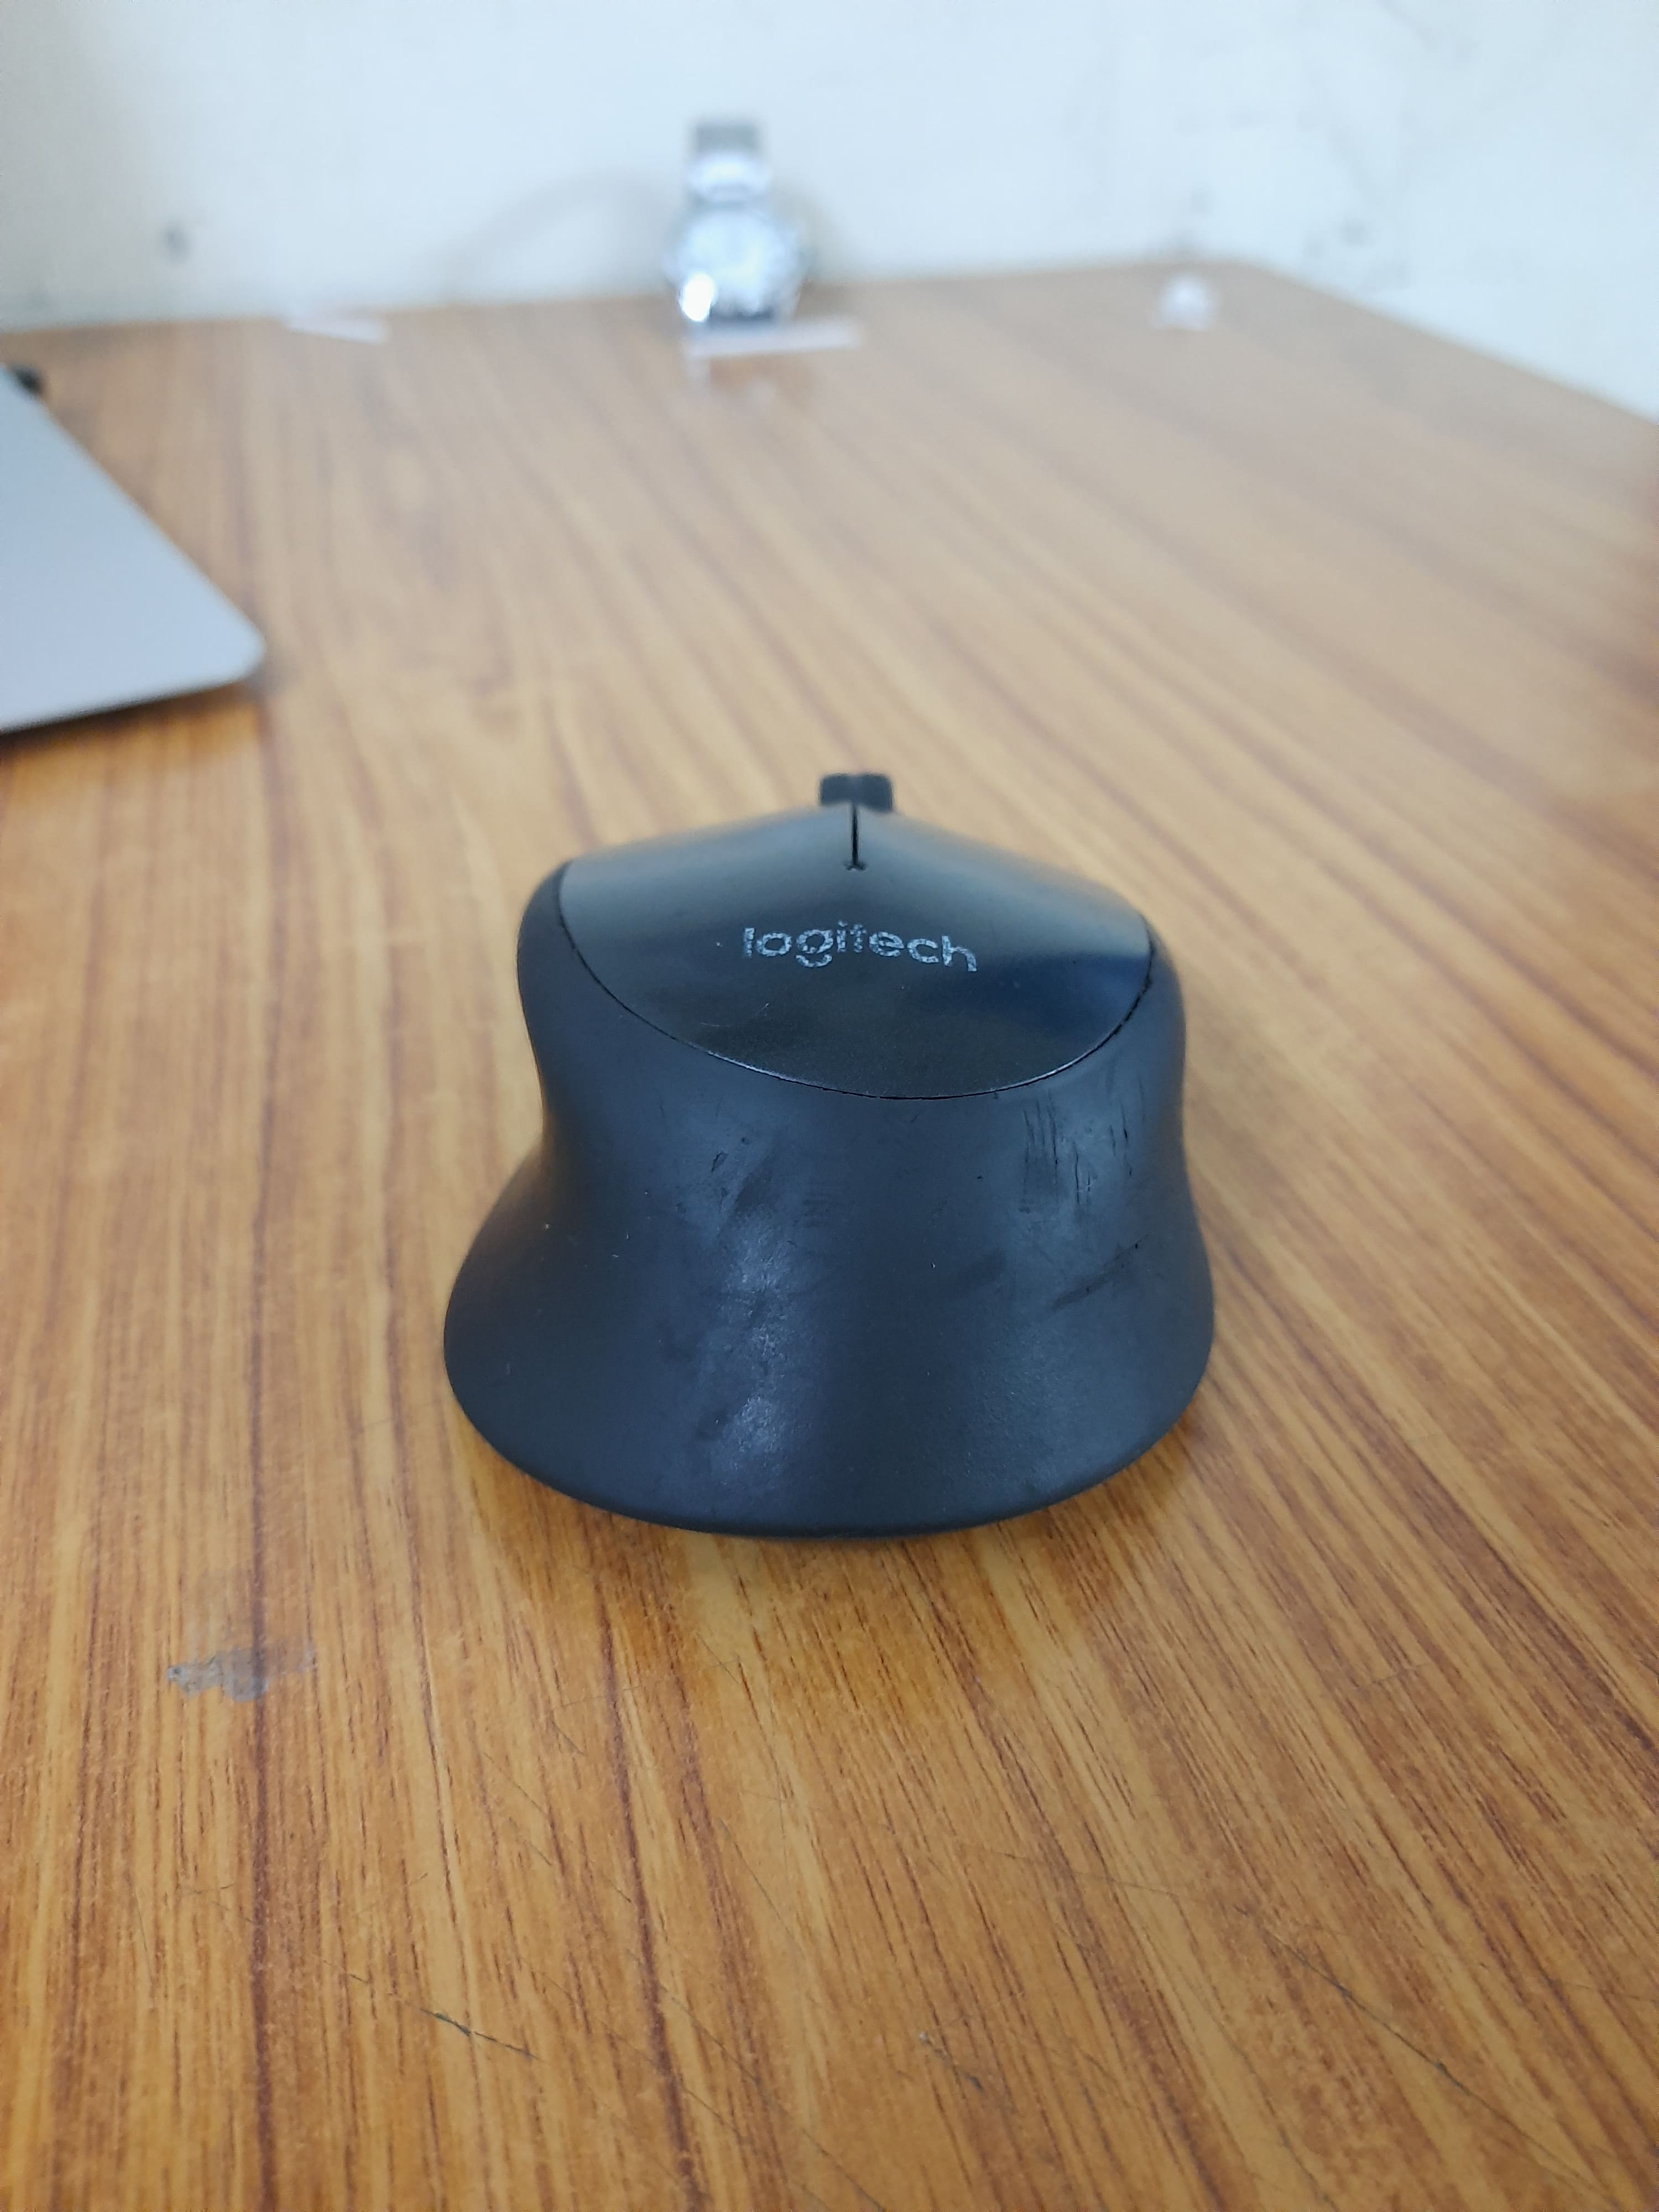Vikash's Mouse: (444, 766, 1218, 1545)
